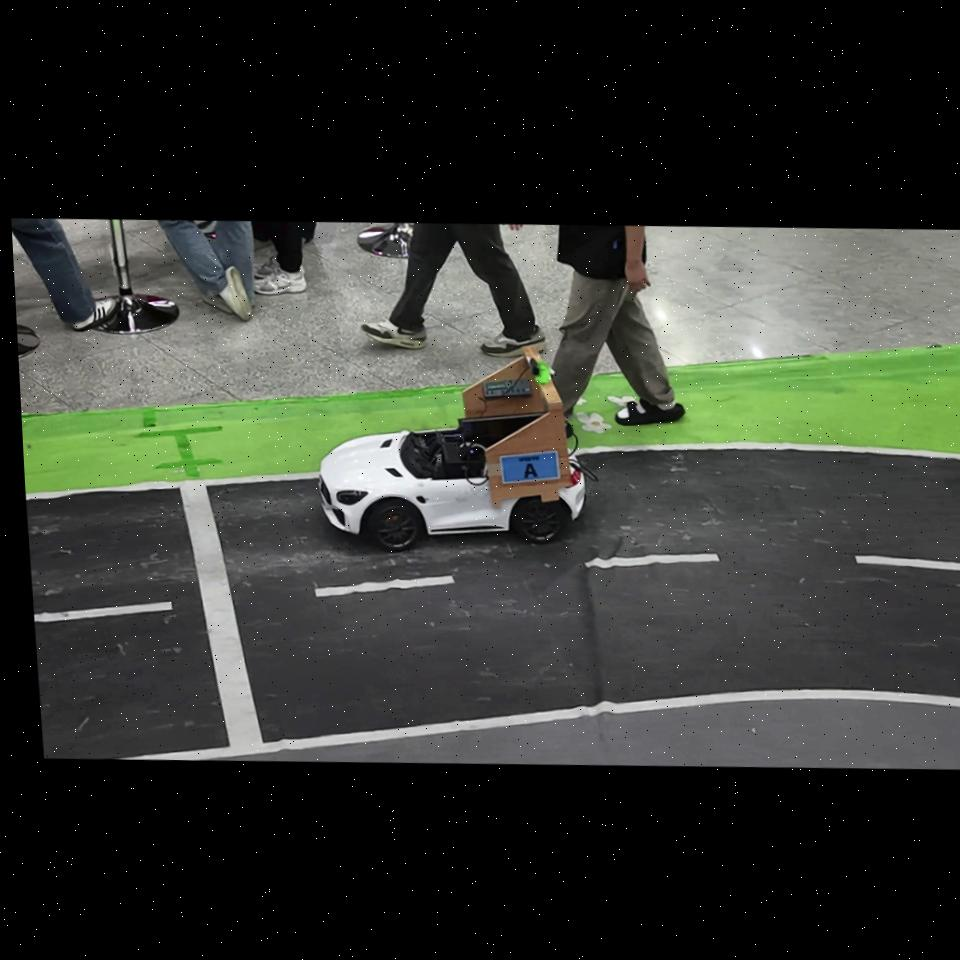broken_line: (315, 575, 455, 597), (34, 602, 173, 622), (584, 553, 721, 568), (856, 555, 960, 571)
